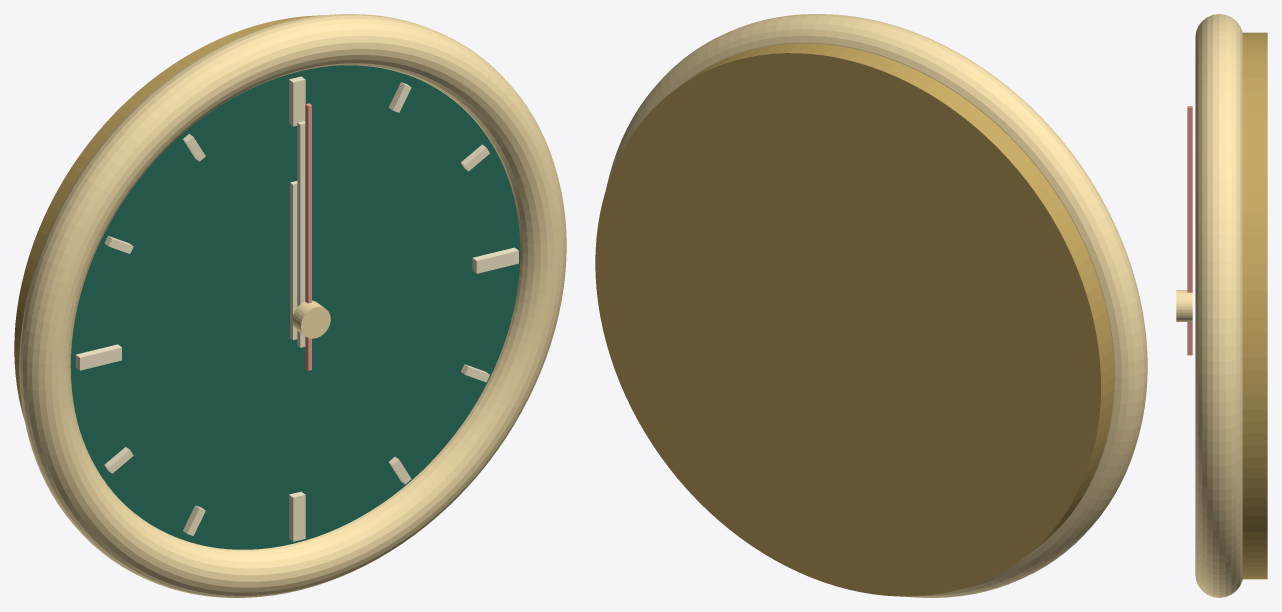
Rendered from hours.glb.
3 renders of one model, left to right at view 1: azimuth 30°, elevation 25°; view 2: azimuth 150°, elevation 25°; view 3: azimuth 270°, elevation 25°, orthographic. The views are drawn at different scales.
Visible parts, largest first — view 1: clock, hand_minute, hand_second, hand_hour, hub; view 2: clock; view 3: clock, hand_second, hub.
Part boxes in pixels (left/top/right/bottom): clock: left=14, top=14, right=566, bottom=597; hand_minute: left=297, top=121, right=305, bottom=347; hand_second: left=305, top=103, right=311, bottom=370; hand_hour: left=290, top=181, right=297, bottom=340; hub: left=292, top=300, right=330, bottom=338; clock: left=595, top=14, right=1147, bottom=597; clock: left=1195, top=14, right=1267, bottom=597; hand_second: left=1187, top=106, right=1192, bottom=355; hub: left=1176, top=290, right=1192, bottom=321.
Bounding box in the file's own units: 2.4 × 2.4 × 0.374.
